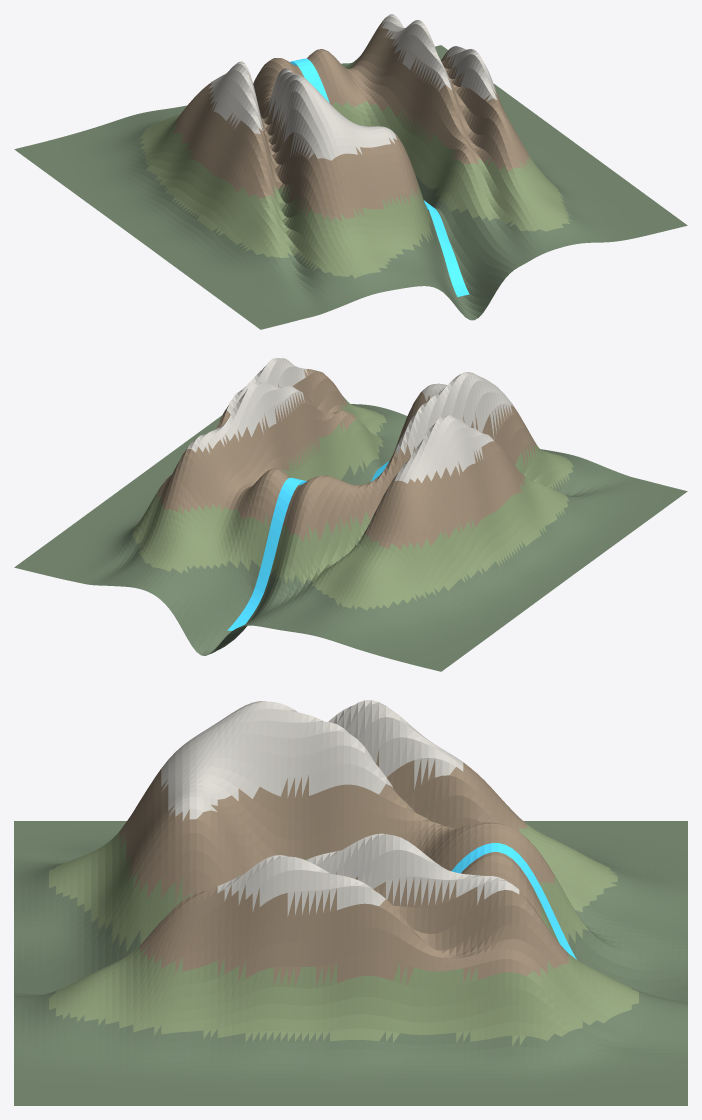
3 views of the same model, one above another, from view 1: azimuth 30°, elevation 25°; view 2: azimuth 150°, elevation 25°; view 3: azimuth 270°, elevation 25° (orthographic). The views are drawn at different scales.
Parts seen in each view (by area): view 1: Eroded mountain watershed; view 2: Eroded mountain watershed; view 3: Eroded mountain watershed.
Boxes of the visible parts, x1,y1,x2,y2 form: Eroded mountain watershed: (14,14,687,329); Eroded mountain watershed: (14,358,687,671); Eroded mountain watershed: (14,700,687,1105).
Size of the model in its own units: 12 by 5.24 by 12.
